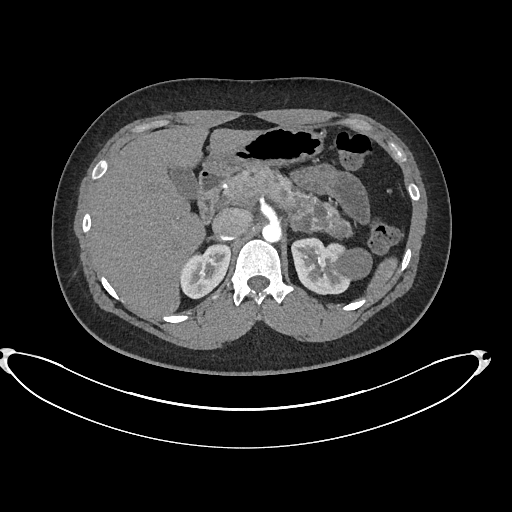Lesion: (332, 246, 373, 283)
